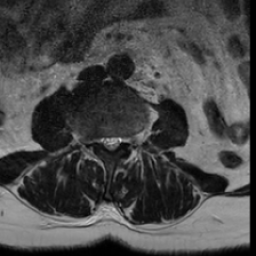CCS_severe_stenosis: (107, 126, 115, 158)
LFS_stenosis: (122, 126, 130, 151)
LLS_normal: (115, 125, 122, 155)
RFS_stenosis: (91, 126, 100, 152)
RLS_stenosis: (100, 128, 107, 155)
